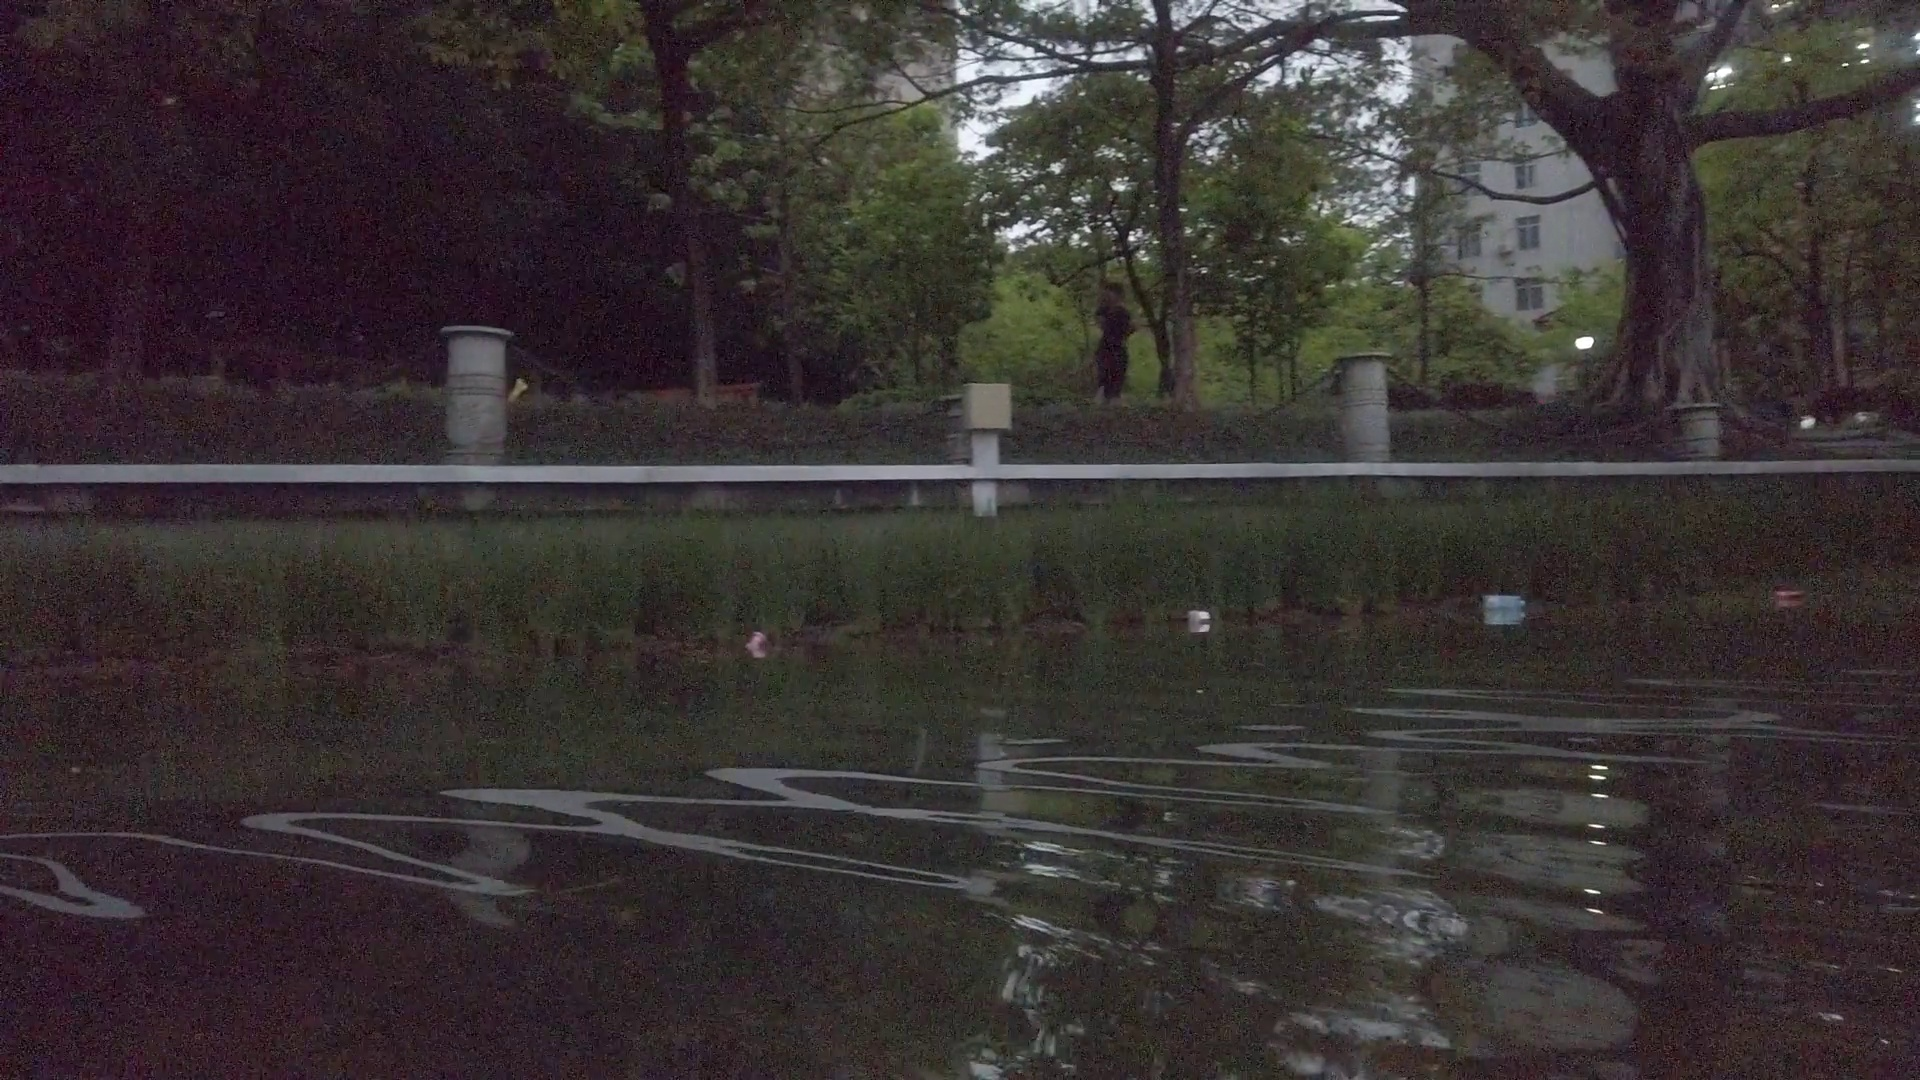bottle: (1484, 591, 1526, 611), (1772, 589, 1808, 601), (746, 630, 765, 653)
carton: (1189, 609, 1212, 629)
